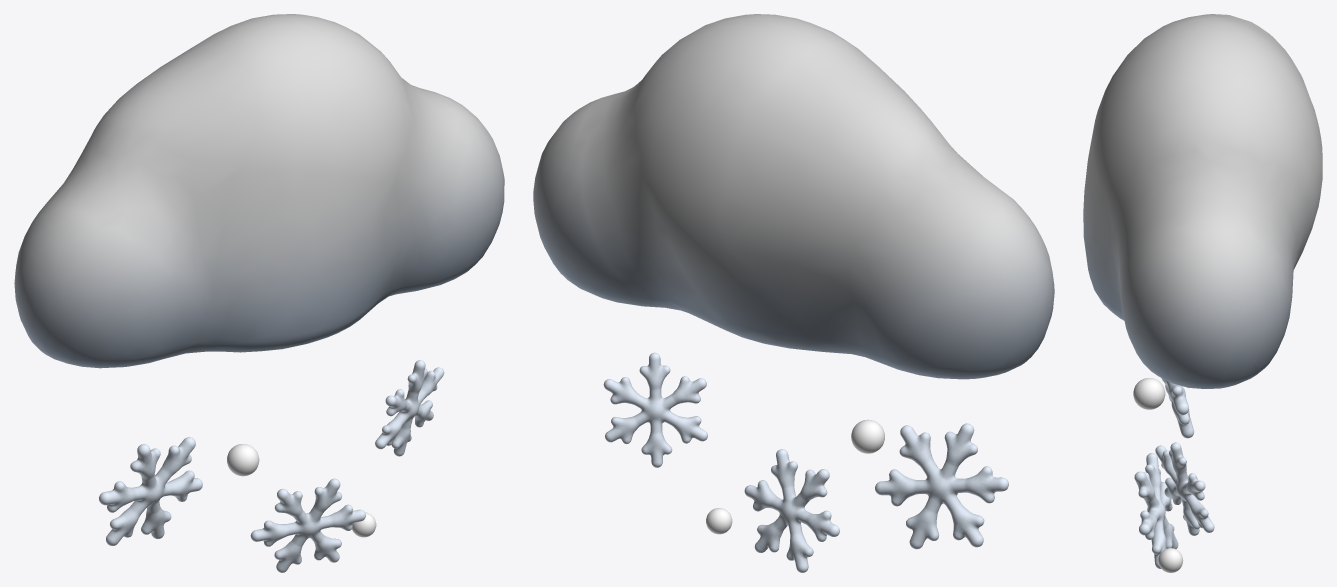
The model's file is snow.glb.
The picture shows the model from 3 angles, left to right: view 1: azimuth 30°, elevation 25°; view 2: azimuth 150°, elevation 25°; view 3: azimuth 270°, elevation 25°; orthographic projection. The views are drawn at different scales.
Parts seen in each view (by area): view 1: cloud, snowflake, snowball; view 2: cloud, snowflake, snowball; view 3: cloud, snowflake, snowball.
Part boxes in pixels (bbox=[...]): cloud: bbox=[14, 14, 504, 368]; snowflake: bbox=[99, 360, 444, 572]; snowball: bbox=[227, 444, 376, 537]; cloud: bbox=[533, 14, 1054, 379]; snowflake: bbox=[603, 352, 1008, 572]; snowball: bbox=[706, 419, 884, 534]; cloud: bbox=[1083, 14, 1322, 388]; snowflake: bbox=[1134, 378, 1214, 568]; snowball: bbox=[1133, 378, 1183, 572].
Bounding box in the file's own units: 1.52 × 1.63 × 0.6713.
